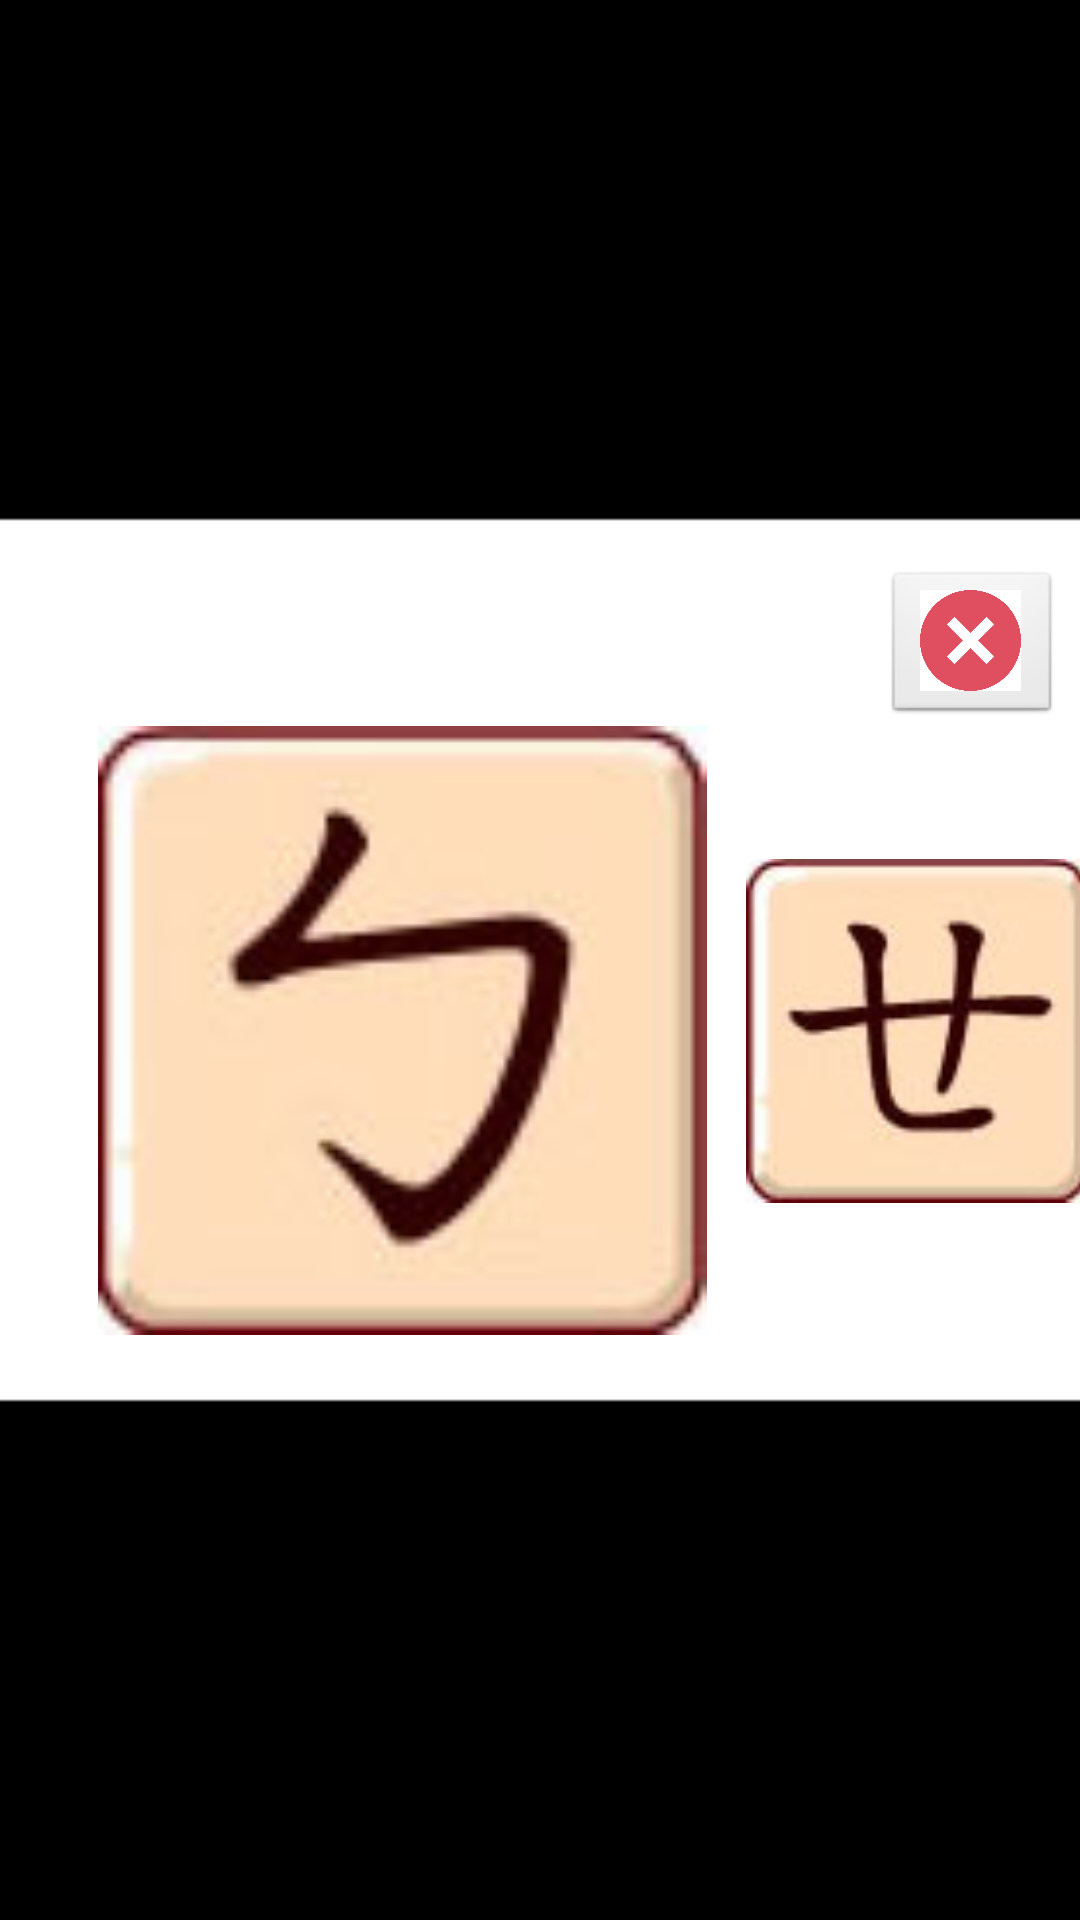

Locate icon controls on the screen. Image size 1080 × 1920, boxes as (x1, y1, x2, y2).
close: (891, 572, 1053, 714)
